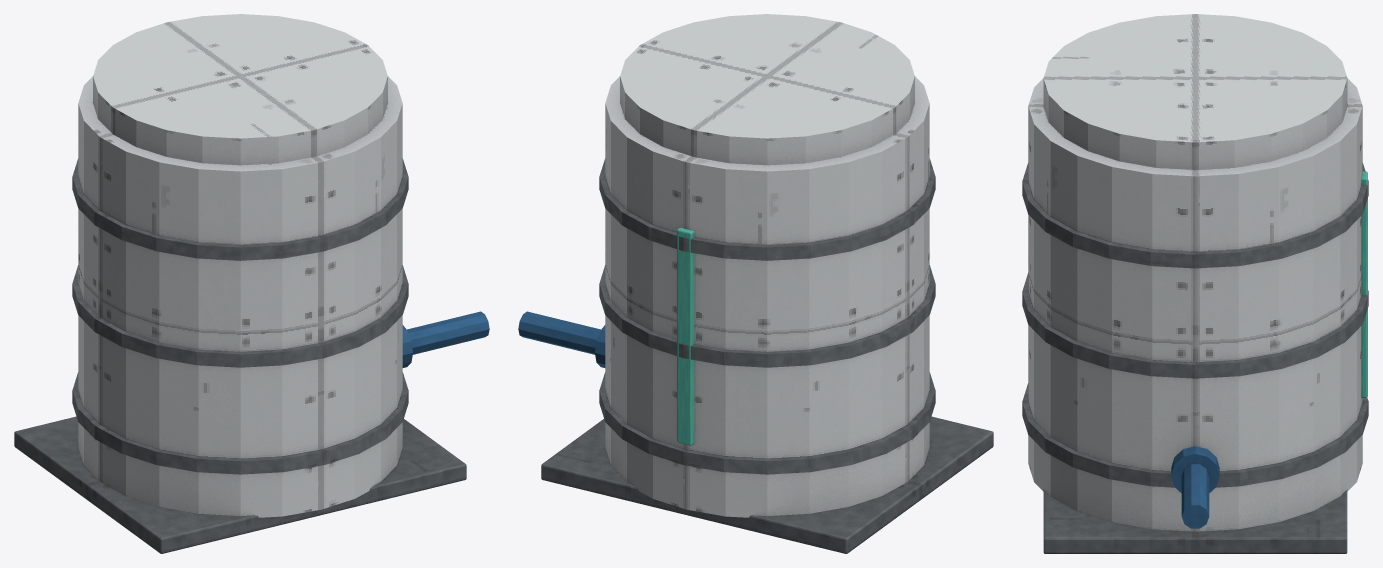
Rendered from base_water_tank.glb.
3 renders of one model, left to right at view 1: azimuth 30°, elevation 25°; view 2: azimuth 150°, elevation 25°; view 3: azimuth 270°, elevation 25°, orthographic. The views are drawn at different scales.
Parts seen in each view (by area): view 1: base_water_tank; view 2: base_water_tank; view 3: base_water_tank.
Boxes of the visible parts, box(x1,y1,x2,y2) form: base_water_tank: box(14, 14, 489, 553); base_water_tank: box(518, 14, 993, 553); base_water_tank: box(1022, 14, 1368, 553).
Bounding box in the file's own units: 3.1 × 2.9 × 2.28.
4 materials, 4 textured.
